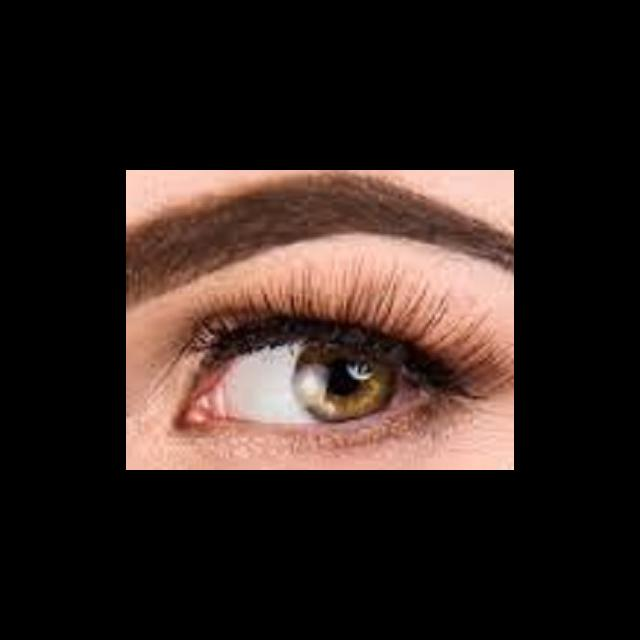eye: (211, 336, 429, 426)
iris: (294, 343, 400, 423)
